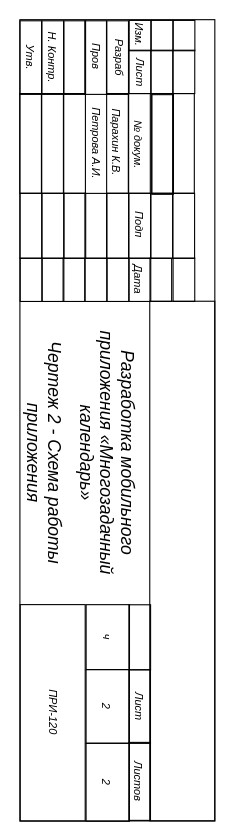
The diagram is 234 pixels wide and 840 high, and some of its shapes have lost their labels. Here are the shapes that lost their labels. From the top down, the centre of each, then its label:
At (182,560): "ВлГУ.09.03.04.04.25 Чертеж 2".
At (139,637): "Лит.".
